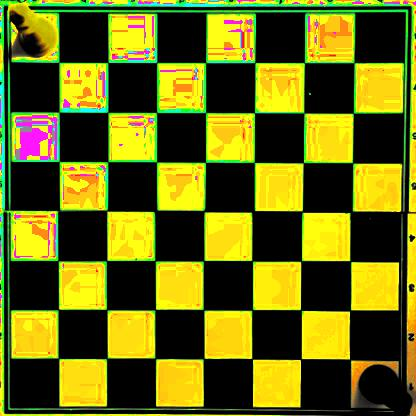black-king: (356, 364, 412, 416)
white-king: (8, 3, 59, 59)
